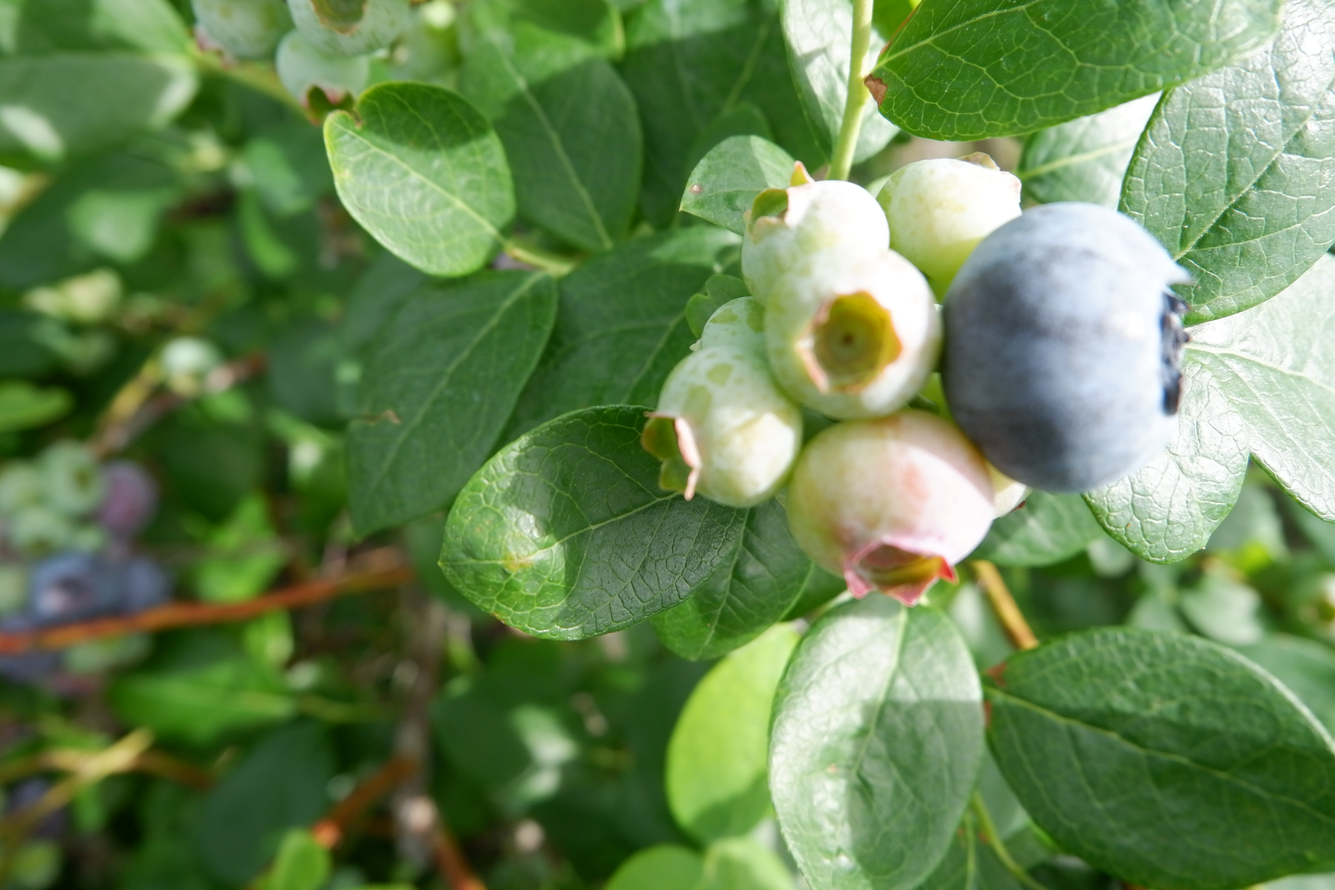Immature: (792, 414, 993, 608), (765, 249, 942, 417), (642, 345, 805, 509), (879, 150, 1020, 299), (742, 173, 886, 298), (688, 297, 769, 363), (982, 456, 1026, 519)
Mature: (941, 202, 1184, 489)
